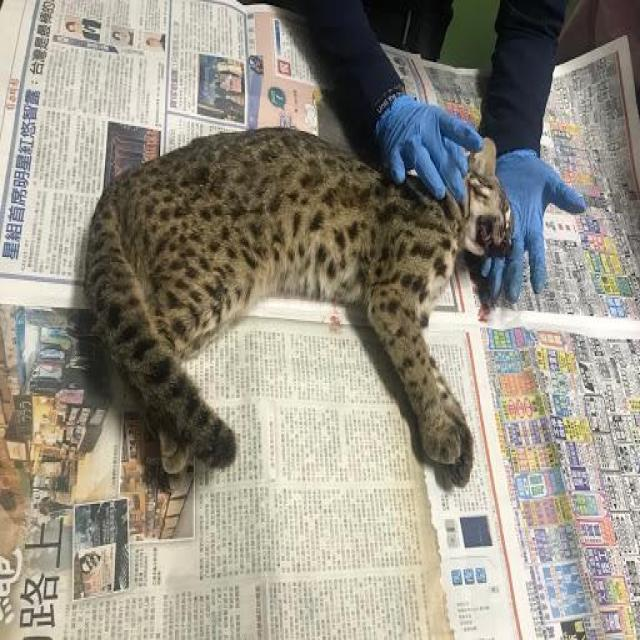leopard: (94, 117, 512, 378)
